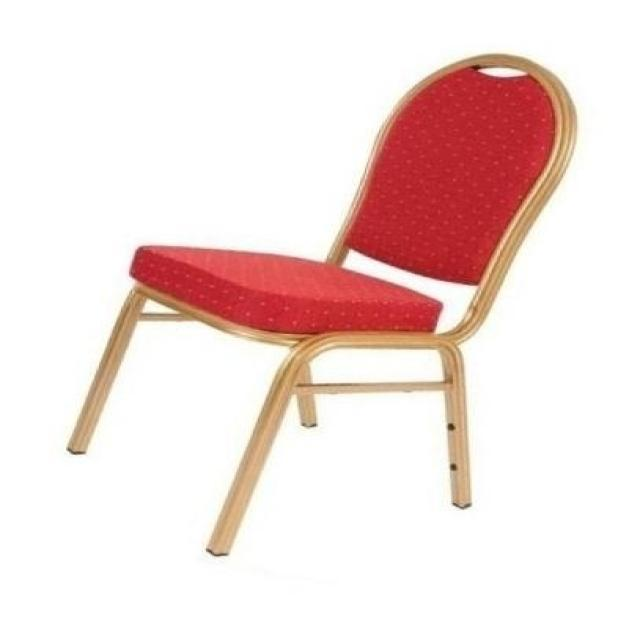chair: (65, 53, 578, 555)
